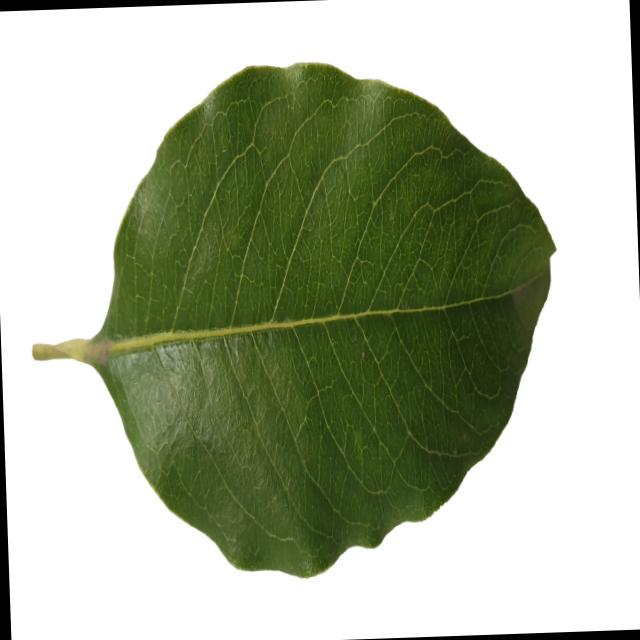Medicinal-Sandalwood: (21, 52, 568, 585)
